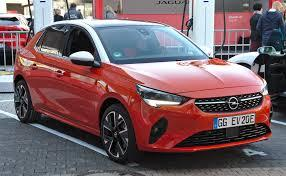opel: (225, 95, 240, 109)
